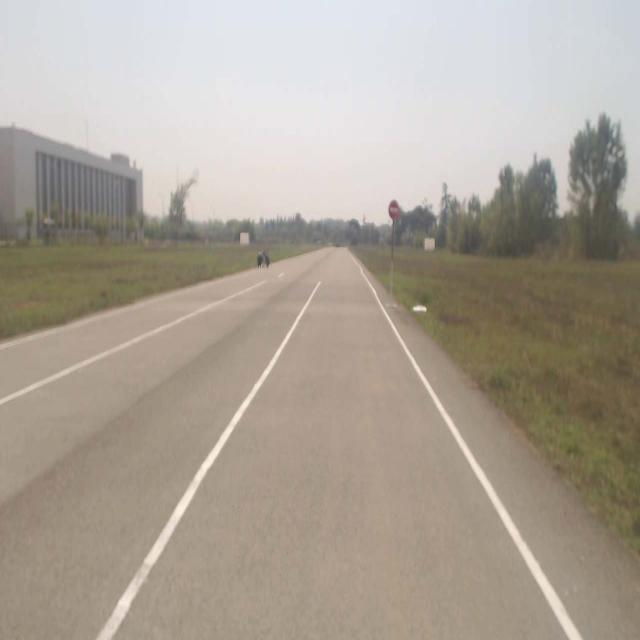girisyok: (387, 200, 400, 220)
